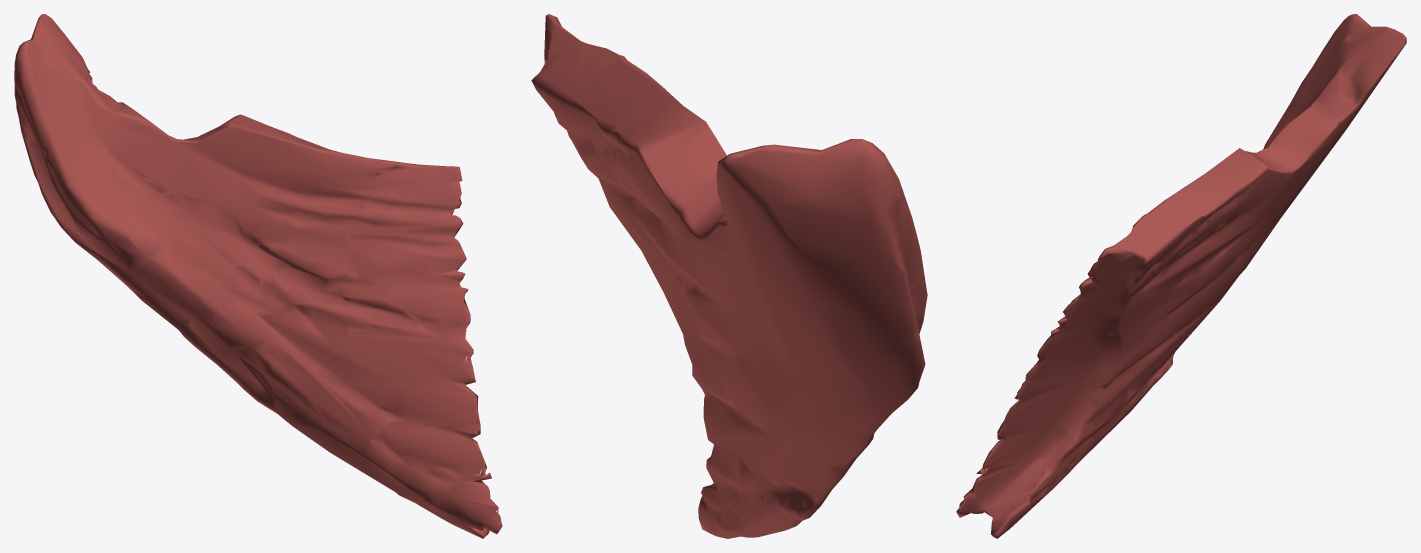
The model's file is FMA49022.glb.
3 views of the same model, side by side, from view 1: azimuth 30°, elevation 25°; view 2: azimuth 150°, elevation 25°; view 3: azimuth 270°, elevation 25° (orthographic). The views are drawn at different scales.
Parts seen in each view (by area): view 1: FMA49022; view 2: FMA49022; view 3: FMA49022.
Part boxes in pixels (x1=…): FMA49022: x1=14, y1=14, x2=502, y2=538; FMA49022: x1=531, y1=14, x2=927, y2=538; FMA49022: x1=956, y1=14, x2=1406, y2=538.
Size of the model in its own units: 0.0171 by 0.0218 by 0.0222.
